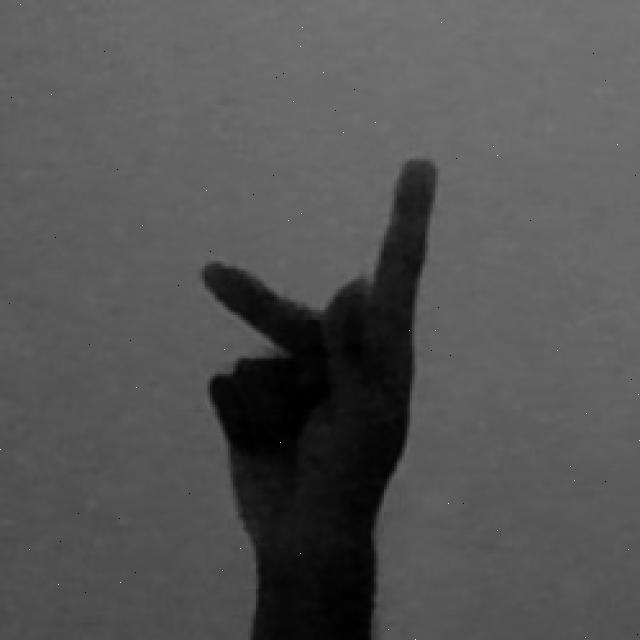K: (197, 153, 440, 640)
